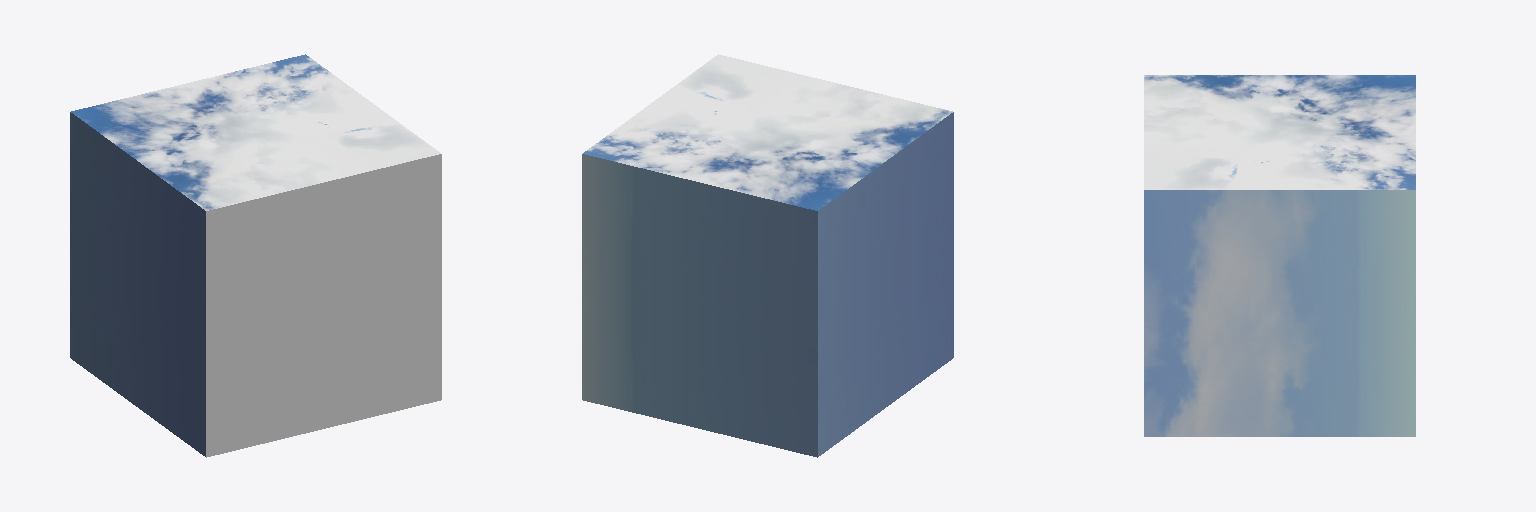
3 views of the same model, side by side, from view 1: azimuth 30°, elevation 25°; view 2: azimuth 150°, elevation 25°; view 3: azimuth 270°, elevation 25° (orthographic).
Parts seen in each view (by area): view 1: Cube; view 2: Cube; view 3: Cube.
Boxes of the visible parts, <box> form: Cube: <box>70,54,441,457</box>; Cube: <box>582,54,953,457</box>; Cube: <box>1144,75,1415,436</box>.
Bounding box in the file's own units: 300 × 300 × 300.
6 materials, 5 textured.